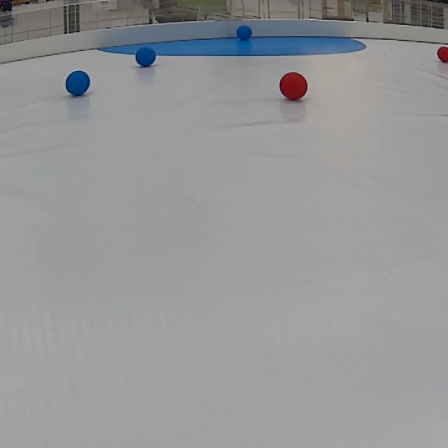blue: (61, 69, 93, 99), (134, 48, 158, 69), (236, 25, 254, 40)
blue_base: (97, 37, 375, 59)
red: (278, 71, 309, 103), (433, 43, 448, 63)
